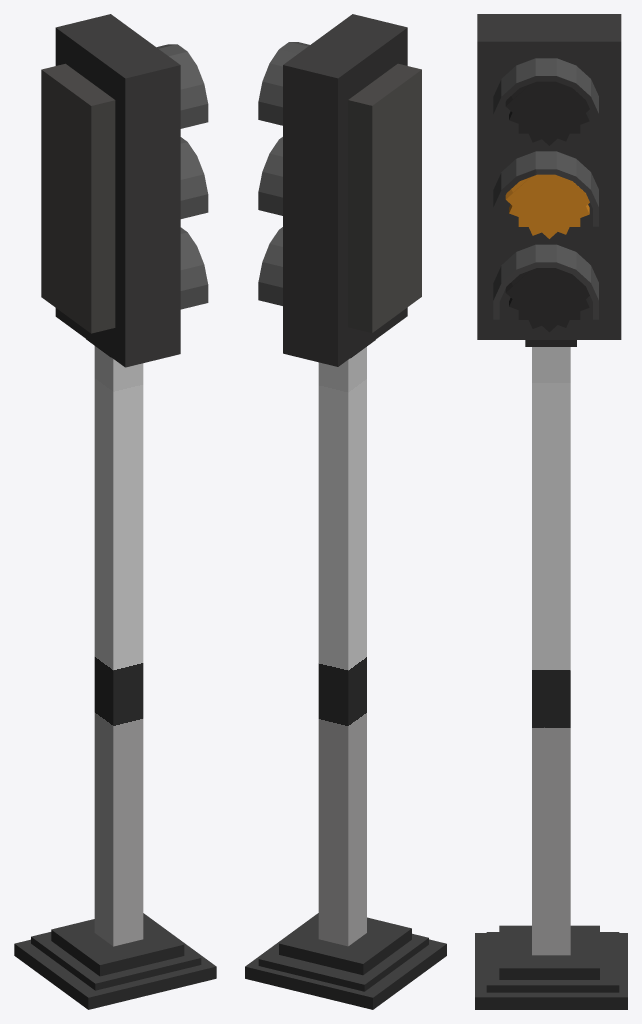
The model's file is yellow_light.glb.
3 renders of one model, left to right at view 1: azimuth 30°, elevation 25°; view 2: azimuth 150°, elevation 25°; view 3: azimuth 270°, elevation 25°, orthographic. The views are drawn at different scales.
Visible parts, largest first — view 1: cube_148.001, cube_127.001, cube_144.001, cube_145.001, cube_147.001, cube_146.001, hexadecagon_121.001, hexadecagon_112.001, hexadecagon_103.001, hexadecagon_104.001, hexadecagon_122.001, hexadecagon_113.001; view 2: cube_148.001, cube_127.001, cube_144.001, cube_147.001, cube_145.001, cube_146.001, hexadecagon_109.001, hexadecagon_100.001, hexadecagon_118.001, hexadecagon_108.001, hexadecagon_126.001, hexadecagon_117.001; view 3: cube_127.001, cube_148.001, cube_147.001, cube_145.001, cube_146.001, cube_132.001, cube_142.001, cube_137.001, hexadecagon_106.001, hexadecagon_124.001, hexadecagon_115.001, hexadecagon_105.001 (+11 smaller).
Boxes of the visible parts, x1,y1,x2,y2 form: cube_148.001: [94, 346, 143, 946]; cube_127.001: [55, 14, 180, 367]; cube_144.001: [41, 63, 115, 333]; cube_145.001: [14, 913, 216, 1009]; cube_147.001: [51, 915, 184, 976]; cube_146.001: [31, 932, 201, 990]; hexadecagon_121.001: [180, 174, 207, 200]; hexadecagon_112.001: [180, 84, 207, 110]; hexadecagon_103.001: [180, 264, 207, 290]; hexadecagon_104.001: [180, 284, 208, 309]; hexadecagon_122.001: [180, 194, 208, 218]; hexadecagon_113.001: [180, 104, 208, 128]; cube_148.001: [318, 347, 366, 946]; cube_127.001: [283, 14, 407, 366]; cube_144.001: [348, 63, 421, 332]; cube_147.001: [279, 914, 411, 975]; cube_145.001: [245, 913, 446, 1009]; cube_146.001: [258, 933, 428, 991]; hexadecagon_109.001: [258, 81, 282, 107]; hexadecagon_100.001: [258, 262, 282, 287]; hexadecagon_118.001: [258, 172, 282, 197]; hexadecagon_108.001: [258, 282, 282, 305]; hexadecagon_126.001: [258, 191, 282, 215]; hexadecagon_117.001: [258, 101, 282, 125]; cube_127.001: [477, 14, 621, 339]; cube_148.001: [532, 347, 570, 955]; cube_147.001: [499, 925, 599, 979]; cube_145.001: [475, 933, 627, 1009]; cube_146.001: [486, 932, 619, 992]; cube_132.001: [505, 174, 589, 238]; cube_142.001: [505, 81, 589, 145]; cube_137.001: [505, 268, 589, 332]; hexadecagon_106.001: [535, 244, 556, 267]; hexadecagon_124.001: [535, 151, 556, 174]; hexadecagon_115.001: [535, 58, 556, 81]; hexadecagon_105.001: [554, 245, 576, 274].
Size of the model in its own units: 0.1486 by 1.02 by 0.148.
Materials: 1 (1 with a texture image).
